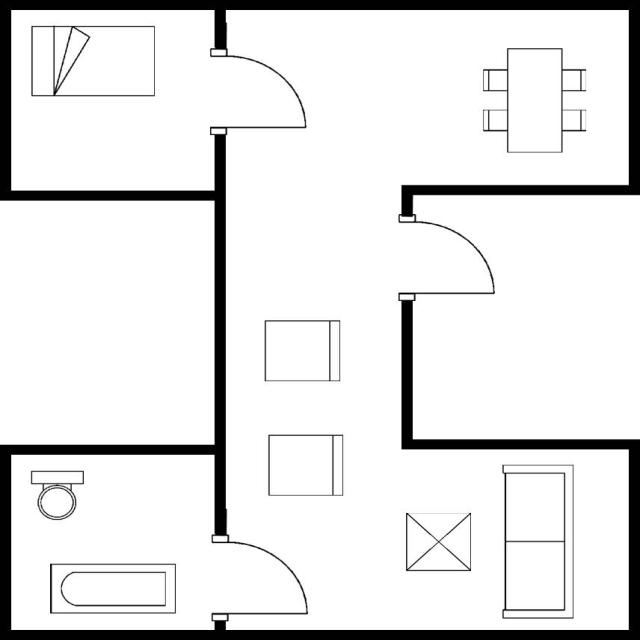bed: (25, 21, 159, 100)
coffee_table: (400, 506, 476, 575)
dining_table: (477, 41, 591, 158)
large_sink: (24, 466, 88, 522)
large_sofa: (494, 458, 578, 622)
small_sofa: (260, 429, 348, 501), (258, 314, 345, 386)
tub: (41, 558, 181, 618)
